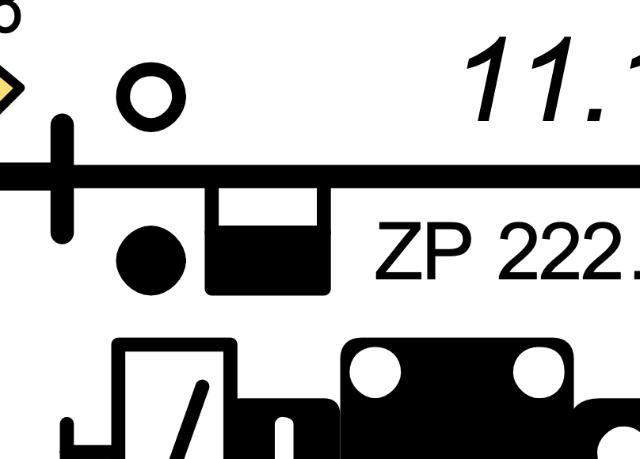radzaehler: (180, 149, 360, 317)
